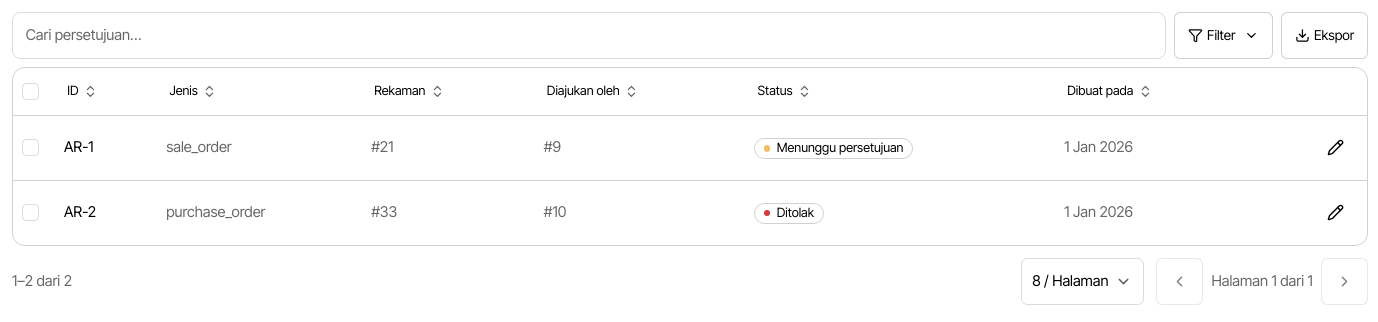
Test: ApprovalRequestsSection › filters requests by search
expect the link "AR-1" is shown: met, box [64,138,94,156]
Type "purchase_order" into the search field with placeholder "Cari persetujuan…" at (589, 35), box [12,12,1166,59]
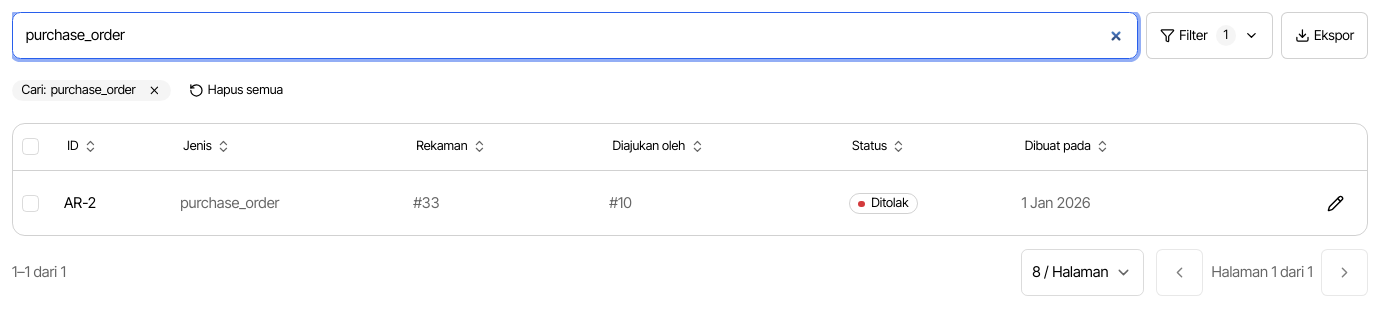
expect the link "AR-2" is shown: met, box [64,194,96,212]
expect the link "AR-1" is gone: met
